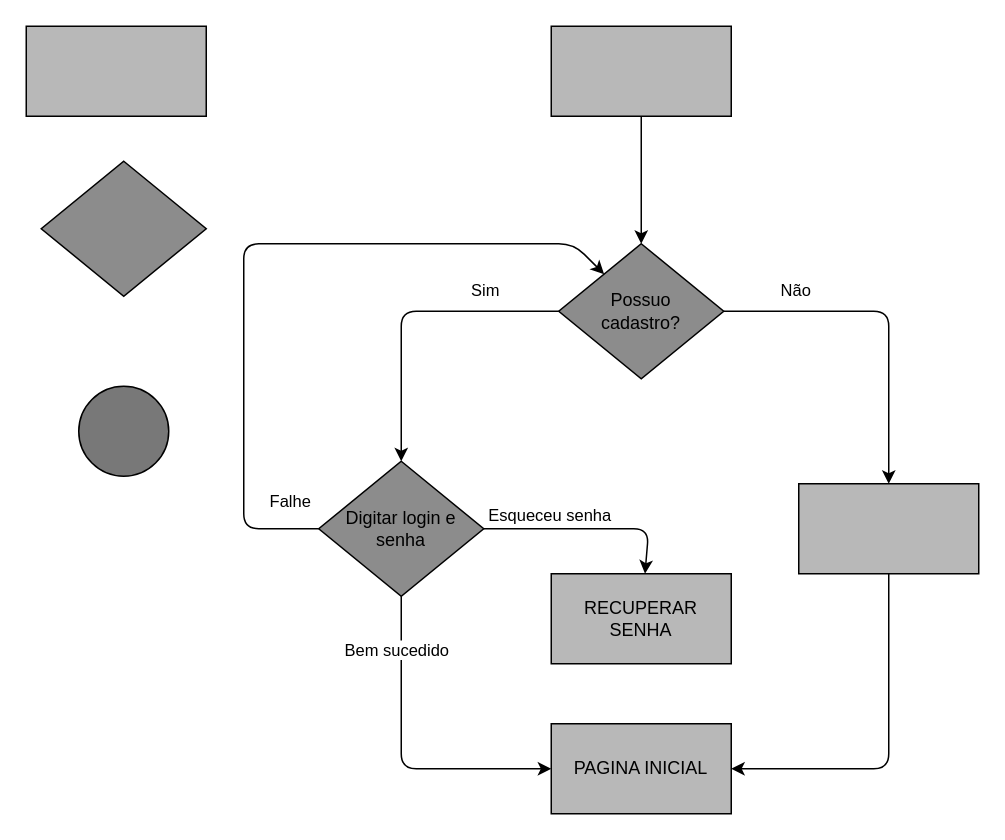
This 1005x840 diagram has some shape labels left out. Here are the shapes that lost their labels. From the top down, the box of each, then its label:
(550, 25, 731, 116): ENTRAR NO SITE
(797, 482, 979, 574): ACESSAR COMO VISITANTE
